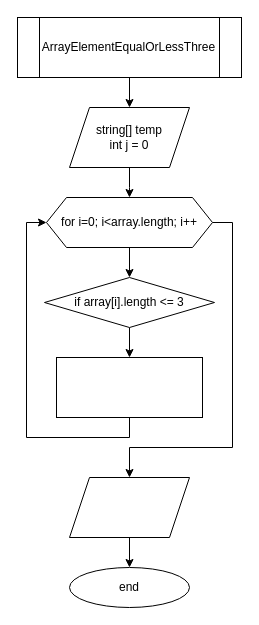
Some shapes in this 259 by 625 pixel diagram are drawn without their labels. Here are the shapes that lost their labels. From the top down, the centre of each, then its label:
At [129,387]: "Array.Resize(temp + 1) temp[j] = array[i] j++".
At [129,507]: "write ( temp )".
